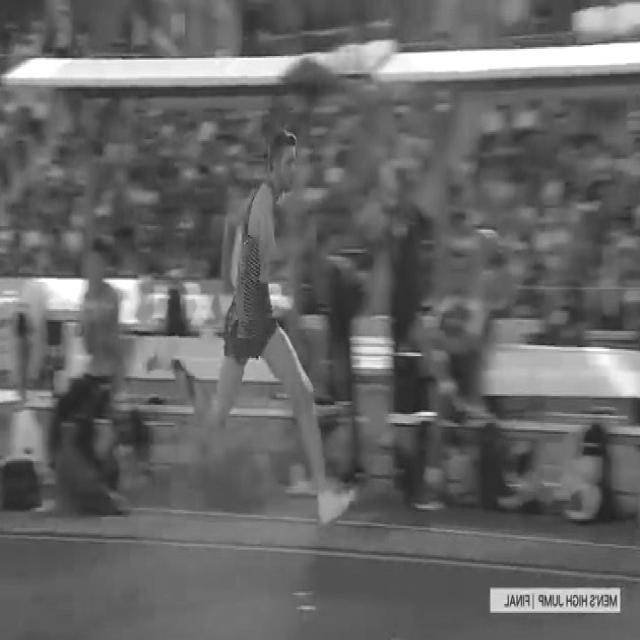run: (170, 133, 355, 528)
